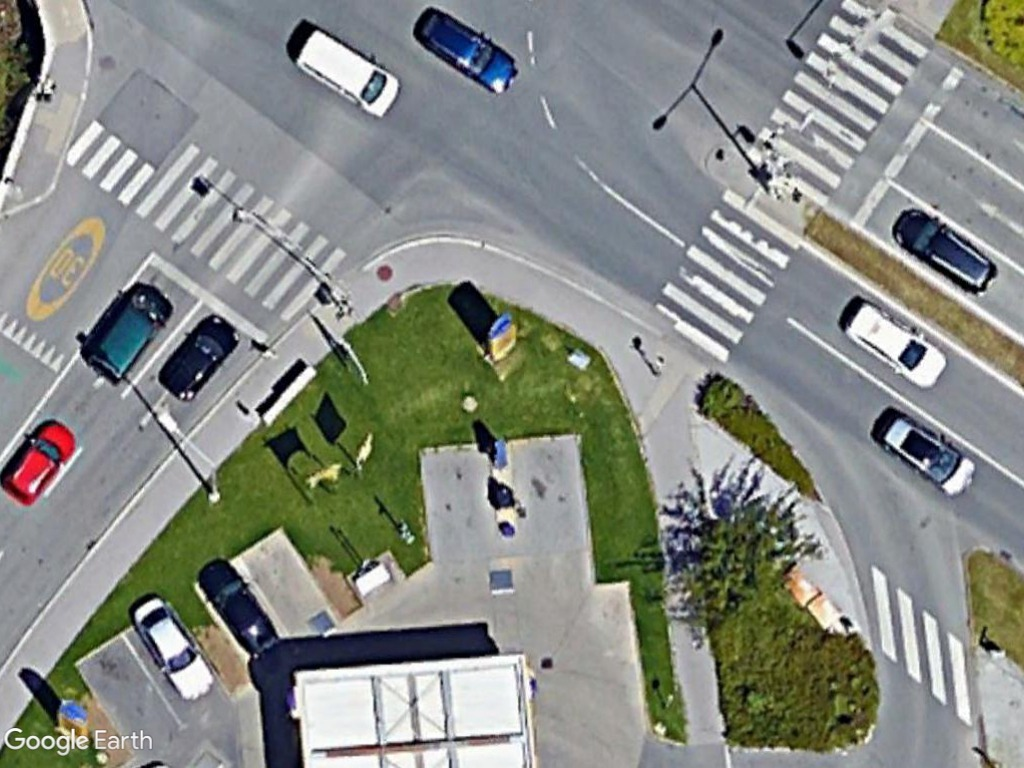car: (841, 294, 956, 394), (867, 405, 978, 500), (412, 5, 522, 100), (125, 589, 217, 702), (889, 204, 1000, 297), (192, 556, 287, 654), (154, 309, 245, 404), (0, 413, 80, 509)
van: (290, 24, 404, 121), (84, 278, 175, 386)
